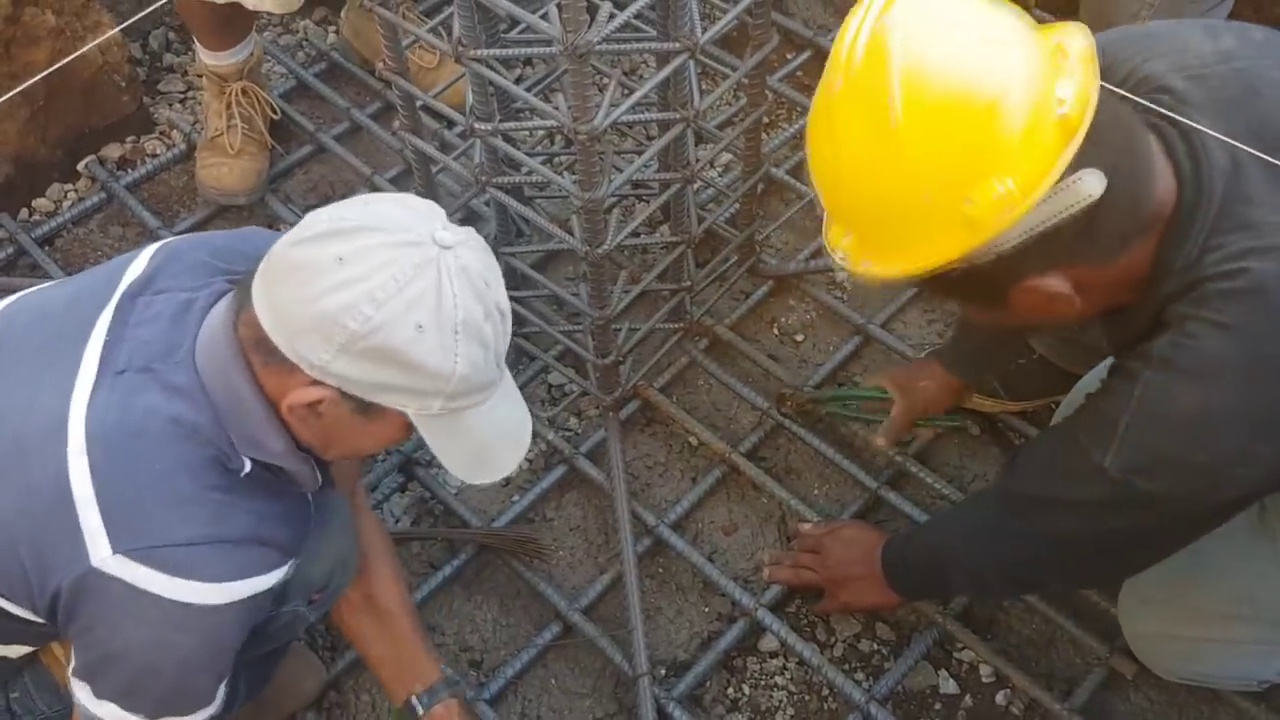helmet: (802, 0, 1092, 291)
helmet-off: (228, 194, 517, 483)
helmet-on: (798, 3, 1197, 341)
person: (731, 0, 1280, 720), (0, 191, 574, 720)
